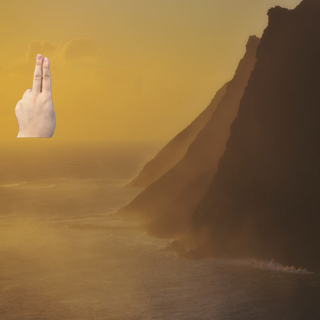DHAVE: (12, 48, 59, 136)
